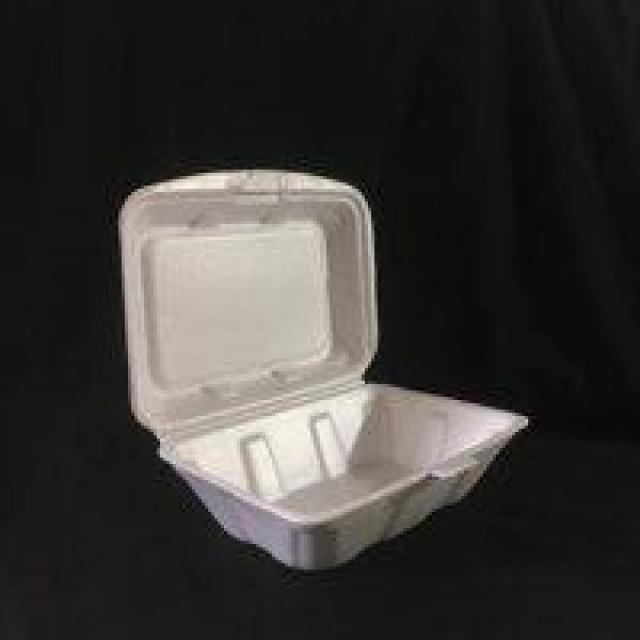styrofoam: (115, 163, 528, 570)
